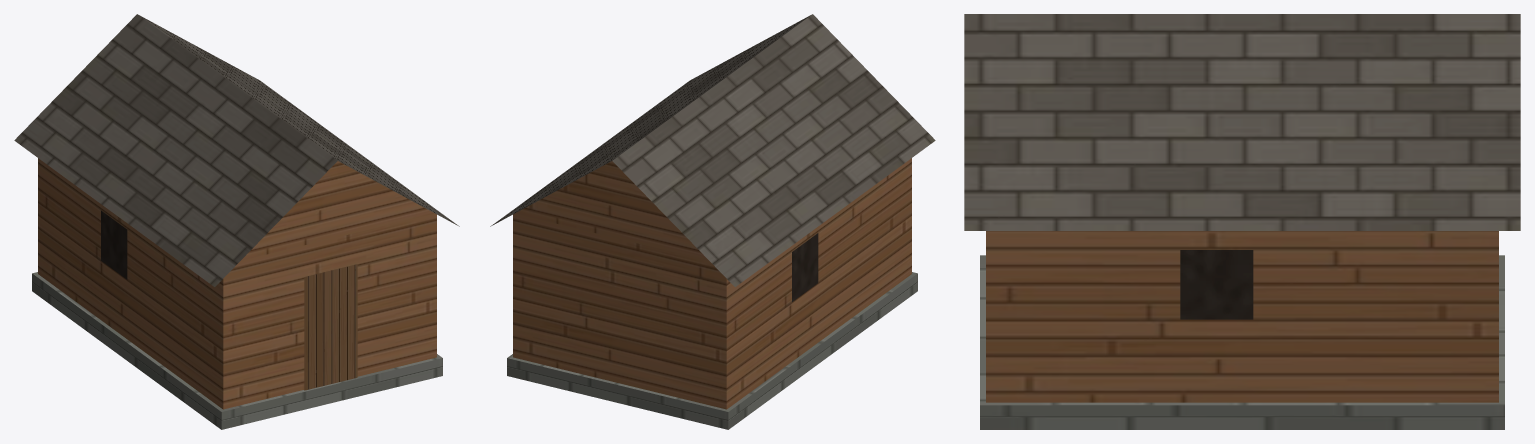
Rendered from ae_sand_wood_medium_block_lod2.glb.
The picture shows the model from 3 angles, left to right: view 1: azimuth 30°, elevation 25°; view 2: azimuth 150°, elevation 25°; view 3: azimuth 270°, elevation 25°; orthographic projection. The views are drawn at different scales.
Parts seen in each view (by area): view 1: ae_sand_wood_medium_block_lod2; view 2: ae_sand_wood_medium_block_lod2; view 3: ae_sand_wood_medium_block_lod2.
Boxes of the visible parts, x1=… form: ae_sand_wood_medium_block_lod2: x1=14, y1=14, x2=459, y2=429; ae_sand_wood_medium_block_lod2: x1=490, y1=14, x2=935, y2=429; ae_sand_wood_medium_block_lod2: x1=964, y1=14, x2=1520, y2=429.
Bounding box in the file's own units: 4.6 × 4.4 × 6.5.
1 material, 1 textured.
